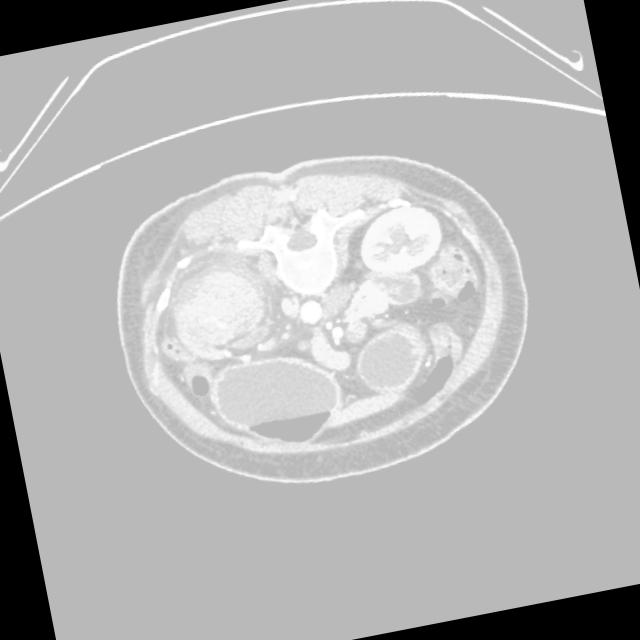TUMOR: (171, 219, 502, 459)
